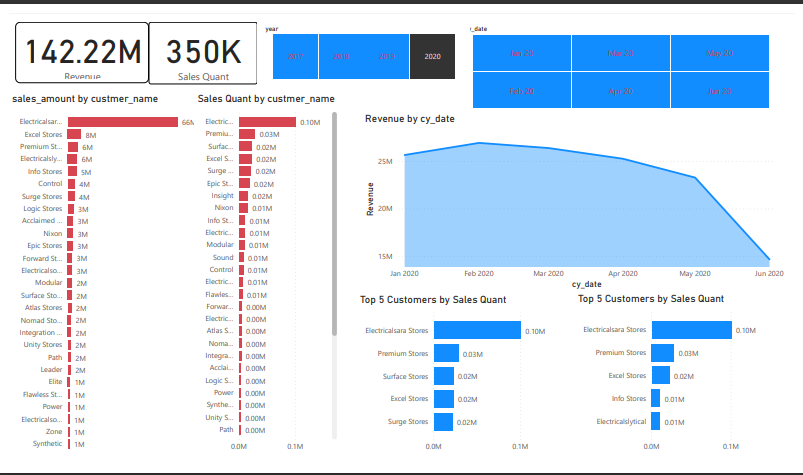

The page's visual inventory and layout, read from the dashboard file:
{"tool":"powerbi","page":{"name":"Page 1","canvas":[1300,720],"ordinal":0},"visuals":[{"type":"card","fields":{"Values":["New Measures.Revenue"]},"box":[10.1,0,221.3,100.6],"z":0},{"type":"card","fields":{"Values":["New Measures.Sales Quant"]},"box":[231.4,0,179.6,103.5],"z":1000},{"type":"barChart","fields":{"Y":["Sum(sales transactions.sales_amount)"],"Category":["sales customers.custmer_name"]},"box":[0,116.9,336.2,603.1],"z":2000},{"type":"barChart","fields":{"Category":["sales customers.custmer_name"],"Y":["New Measures.Sales Quant"]},"box":[307.3,116.9,239.5,603.1],"z":3000},{"type":"slicer","fields":{"Values":["sales date.year"]},"box":[411,0,350.7,100.6],"z":4000},{"type":"slicer","fields":{"Values":["sales date.cy_date"]},"box":[741.6,0,538.9,149.5],"z":5000},{"type":"barChart","title":"Top 5 Customers by Sales Quant","fields":{"Category":["sales customers.custmer_name"],"Y":["New Measures.Sales Quant"]},"box":[576.3,448.4,360.7,271.6],"z":6000},{"type":"barChart","title":"Top 5 Customers by Sales Quant","fields":{"Category":["sales customers.custmer_name"],"Y":["New Measures.Sales Quant"]},"box":[937,446.9,343.5,273.1],"z":7000},{"type":"stackedAreaChart","fields":{"Category":["sales date.cy_date"],"Y":["New Measures.Revenue"]},"box":[584.4,150.1,702.7,297.2],"z":8000}]}

Visuals, with their boxes on the page's 1300x720 design canvas (x1, y1, x2, y2). These are canvas units, not pixel positions in the 803x475 screenshot, which may show the page scaled, cropped or inside an application window:
card - New Measures.Revenue: {"x1": 10, "y1": 0, "x2": 231, "y2": 101}
card - New Measures.Sales Quant: {"x1": 231, "y1": 0, "x2": 411, "y2": 104}
barChart - Sum(sales transactions.sales_amount) x sales customers.custmer_name: {"x1": 0, "y1": 117, "x2": 336, "y2": 720}
barChart - sales customers.custmer_name x New Measures.Sales Quant: {"x1": 307, "y1": 117, "x2": 547, "y2": 720}
slicer - sales date.year: {"x1": 411, "y1": 0, "x2": 762, "y2": 101}
slicer - sales date.cy_date: {"x1": 742, "y1": 0, "x2": 1280, "y2": 150}
"Top 5 Customers by Sales Quant" barChart: {"x1": 576, "y1": 448, "x2": 937, "y2": 720}
"Top 5 Customers by Sales Quant" barChart: {"x1": 937, "y1": 447, "x2": 1280, "y2": 720}
stackedAreaChart - sales date.cy_date x New Measures.Revenue: {"x1": 584, "y1": 150, "x2": 1287, "y2": 447}
